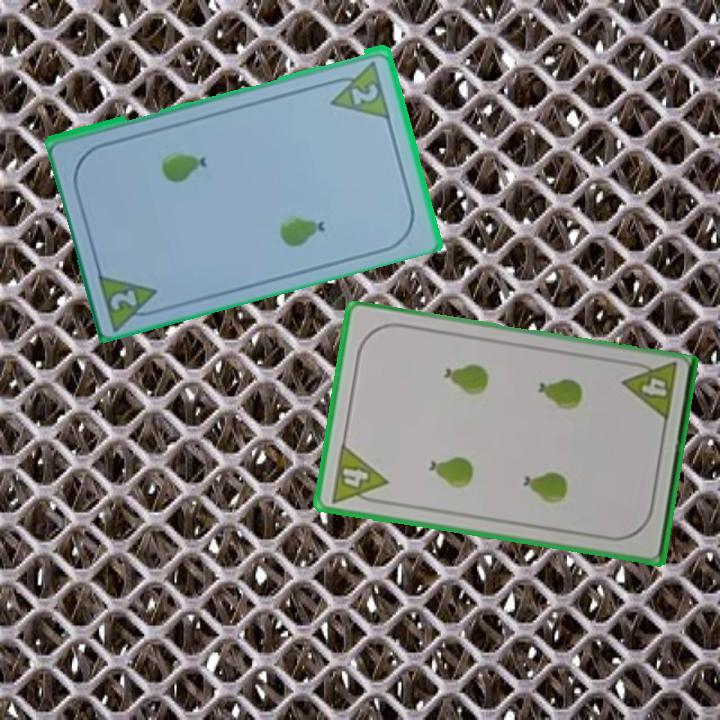2p: (106, 285, 141, 313), (348, 79, 382, 107)
4p: (327, 441, 390, 508), (619, 357, 680, 426)
